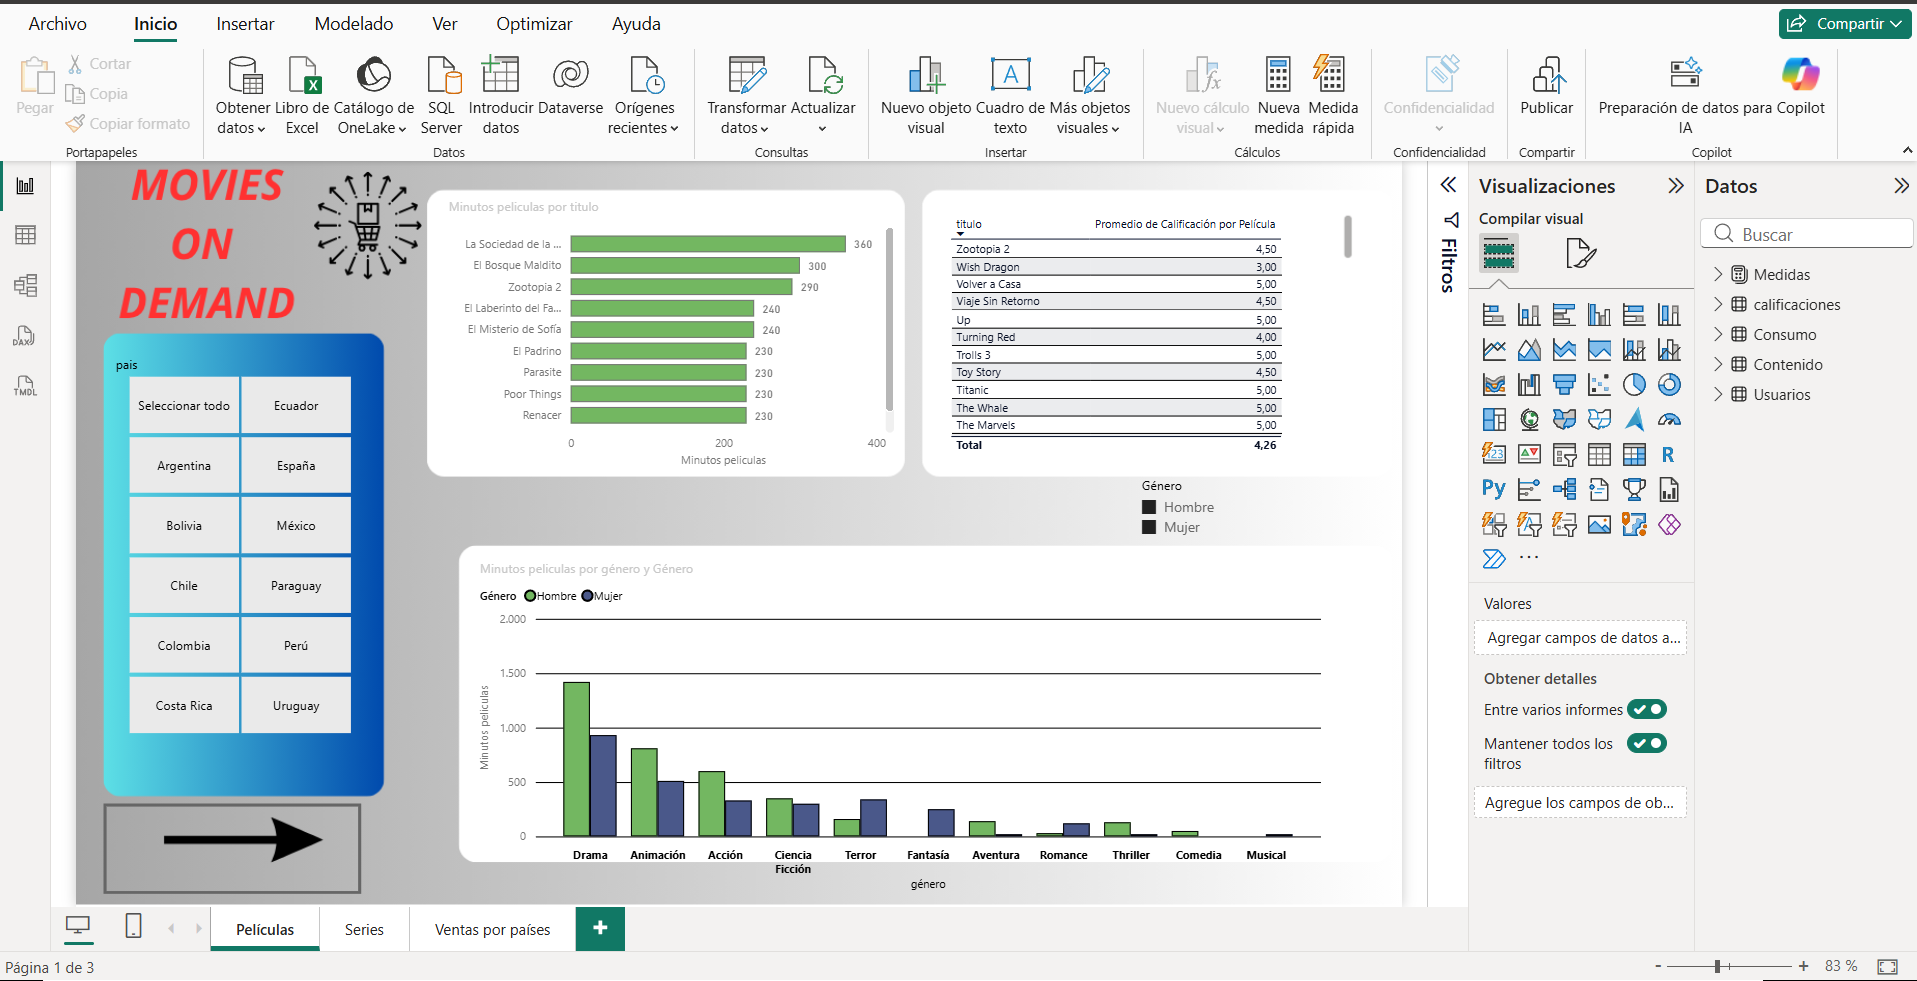

The dashboard page shown, as its layout file describes it:
{"tool":"powerbi","page":{"name":"Películas","canvas":[1280,720],"ordinal":0},"visuals":[{"type":"barChart","fields":{"Y":["Medidas.Minutos peliculas"],"Category":["Contenido.titulo"]},"box":[355,35,440,265],"z":0},{"type":"slicer","fields":{"Values":["Usuarios.pais"]},"box":[25.7,182.9,264.3,375.7],"z":1000},{"type":"clusteredColumnChart","fields":{"Category":["Contenido.género"],"Series":["Usuarios.Género"],"Y":["Medidas.Minutos peliculas"]},"box":[384.3,384.3,821.4,324.3],"z":2000},{"type":"tableEx","fields":{"Values":["Contenido.titulo","Medidas.Promedio de Calificación por Película"]},"box":[838.6,47.1,398.6,240],"z":3000},{"type":"actionButton","box":[26.2,620,248.8,87.5],"z":4000},{"type":"slicer","fields":{"Values":["Usuarios.Género"]},"box":[1015.8,300.4,264.2,70],"z":4001}]}

Visuals, with their boxes on the page's 1280x720 design canvas (x1, y1, x2, y2). These are canvas units, not pixel positions in the 1917x981 screenshot, which may show the page scaled, cropped or inside an application window:
barChart - Medidas.Minutos peliculas x Contenido.titulo: [left=355, top=35, right=795, bottom=300]
slicer - Usuarios.pais: [left=26, top=183, right=290, bottom=559]
clusteredColumnChart - Contenido.género x Usuarios.Género: [left=384, top=384, right=1206, bottom=709]
tableEx - Contenido.titulo x Medidas.Promedio de Calificación por Película: [left=839, top=47, right=1237, bottom=287]
actionButton: [left=26, top=620, right=275, bottom=708]
slicer - Usuarios.Género: [left=1016, top=300, right=1280, bottom=370]
